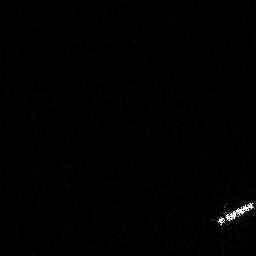ship: (213, 199, 256, 229)
